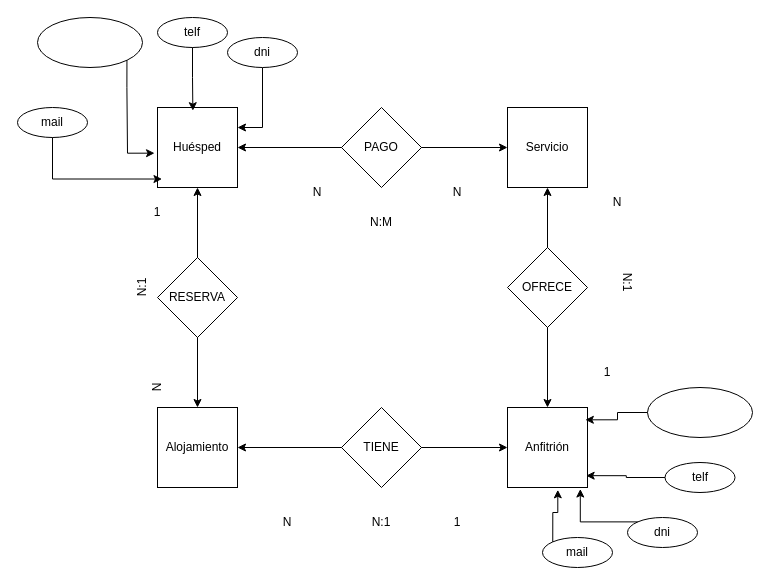
This 770x585 diagram has some shape labels left out. Each missing label, with the centre of its shape:
"ID_anfitrion pk" belongs at pixel 699 412.
"ID_HUESPED pk" belongs at pixel 89 42.
